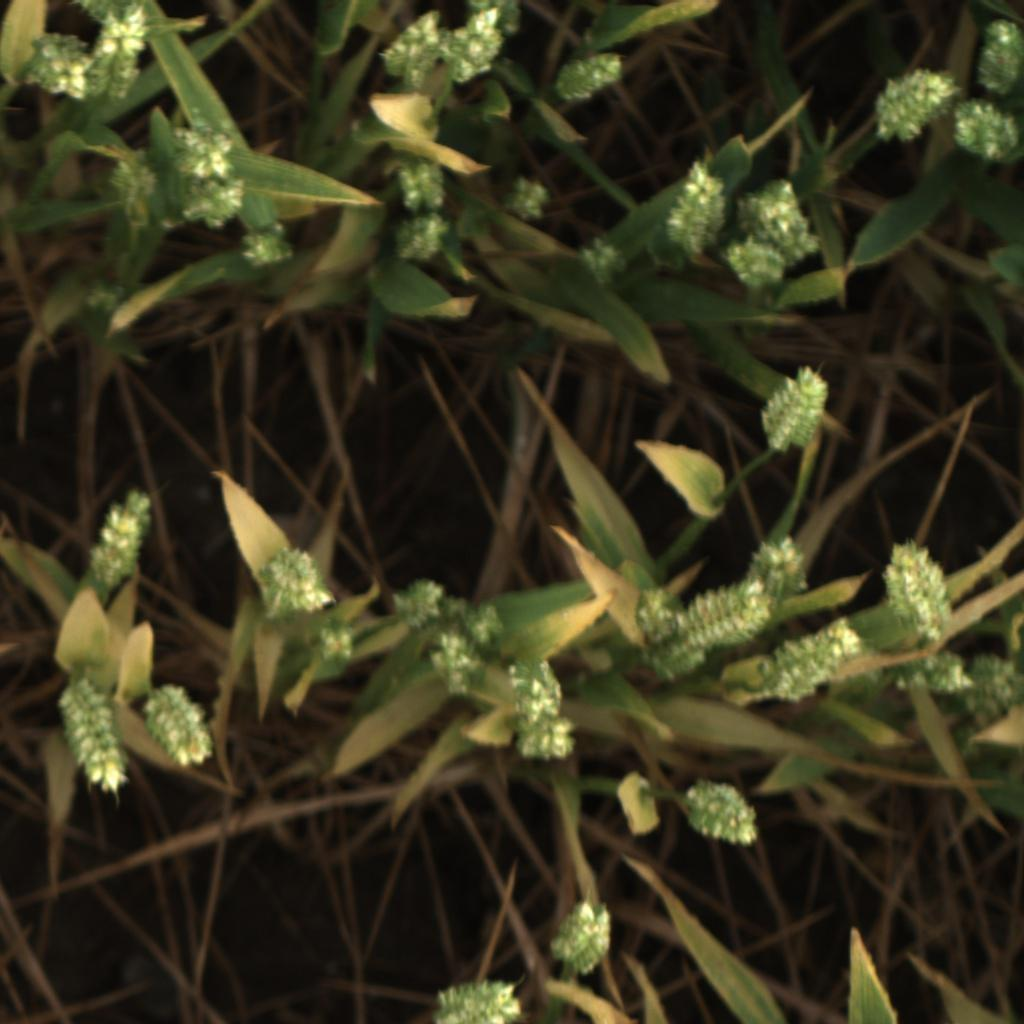0-0: (56, 682, 134, 796), (766, 619, 864, 709), (878, 535, 963, 634), (736, 178, 830, 262), (85, 486, 157, 587), (687, 574, 779, 650), (661, 158, 732, 255), (759, 362, 833, 454), (145, 681, 220, 771), (874, 64, 954, 147), (440, 3, 520, 85), (248, 544, 335, 619), (374, 5, 450, 90), (92, 3, 153, 107), (547, 894, 619, 974), (949, 97, 1019, 175), (543, 50, 633, 110), (684, 779, 760, 850), (21, 32, 94, 103), (964, 17, 1024, 101), (95, 150, 166, 220), (423, 632, 486, 707), (428, 976, 524, 1024), (506, 708, 584, 767), (965, 646, 1024, 721), (627, 579, 694, 645), (507, 653, 577, 716), (177, 178, 249, 239), (635, 630, 721, 679), (717, 238, 794, 292), (572, 228, 638, 291), (171, 122, 238, 183), (906, 649, 976, 702), (753, 535, 813, 596), (388, 575, 452, 632), (390, 158, 454, 215), (233, 223, 297, 276), (74, 269, 134, 323), (307, 613, 361, 672), (497, 172, 554, 227), (389, 218, 446, 268), (457, 599, 511, 647)
